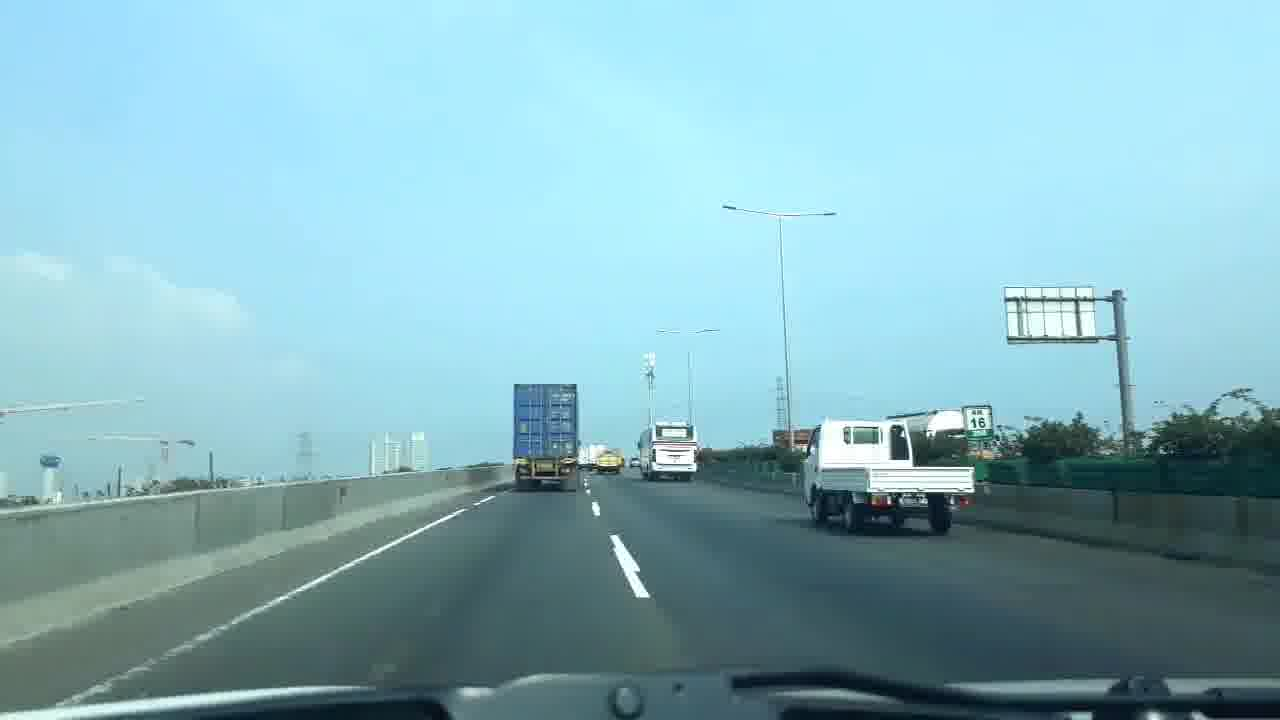plate_positive: (898, 497, 929, 507)
